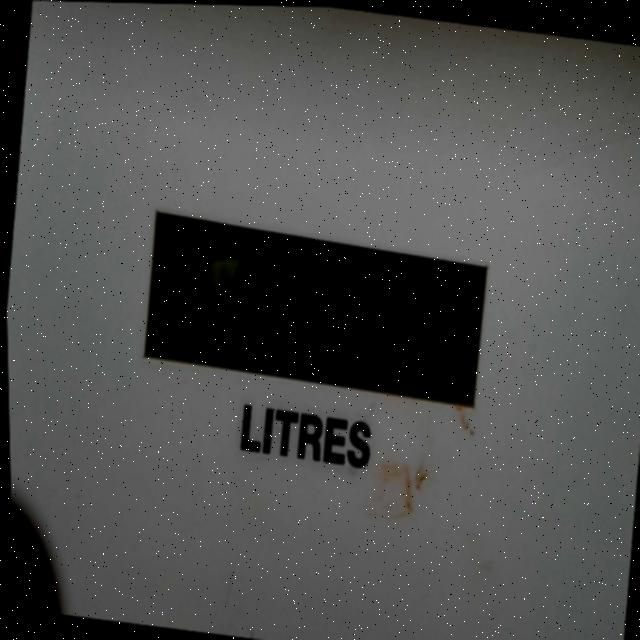.: (343, 339, 365, 379)
0: (353, 256, 415, 377)
2: (408, 264, 470, 393)
5: (309, 249, 359, 368)
9: (253, 236, 311, 367)
